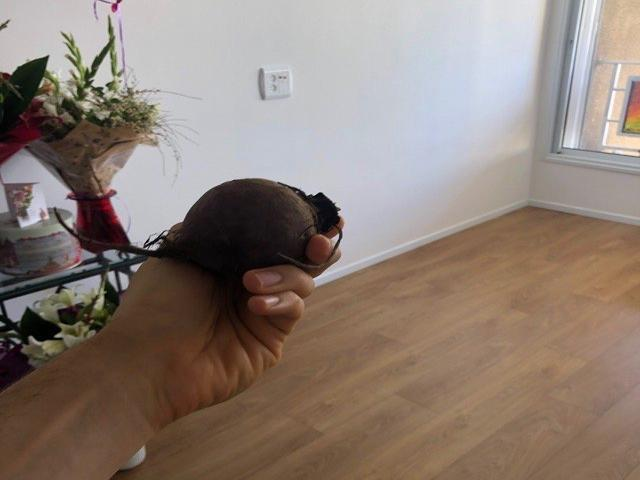beet: (54, 178, 342, 278)
